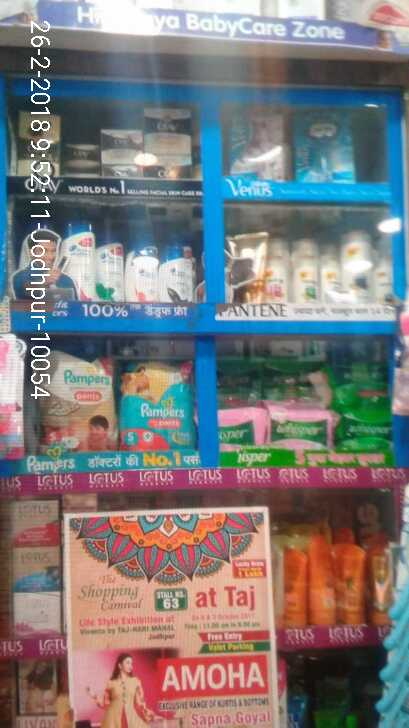venus: (373, 568, 409, 727), (296, 106, 357, 182), (230, 108, 287, 176)
